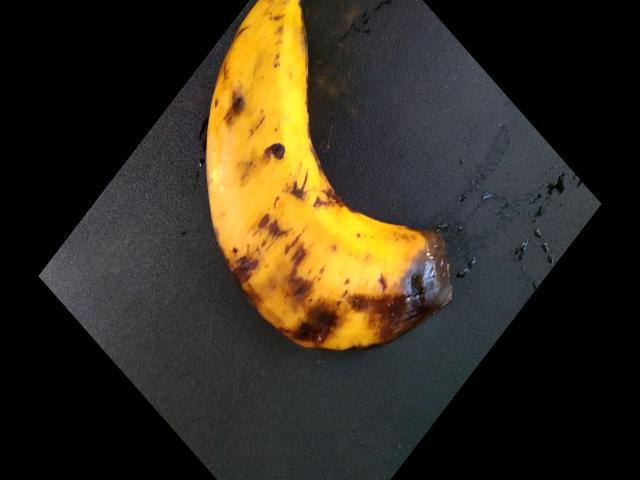overripe: (159, 0, 359, 261)
rotten: (215, 126, 498, 426)
